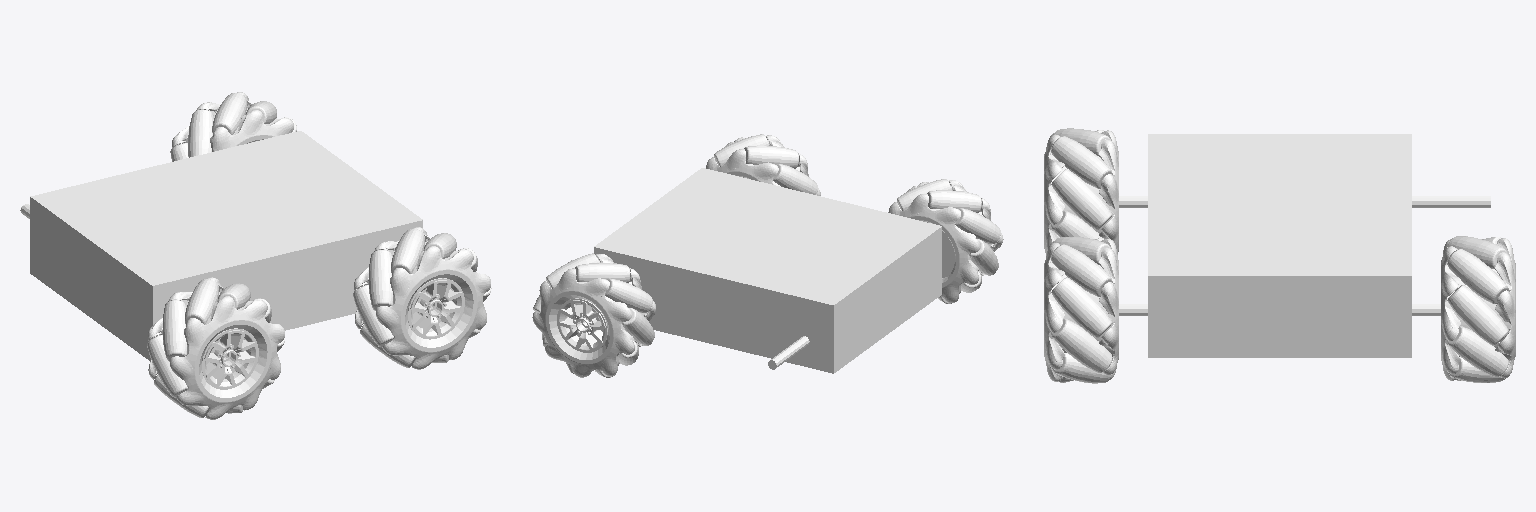
The robot description file, URDF, robot "XIAOCHE2":
<?xml version="1.0" encoding="utf-8"?>
<!-- This URDF was automatically created by SolidWorks to URDF Exporter! Originally created by [author] ([email redacted]) 
     Commit Version: 1.6.0-4-g7f85cfe  Build Version: 1.6.7995.38578
     For more information, please see http://wiki.ros.org/sw_urdf_exporter -->
<robot
  name="XIAOCHE2">
  <link
    name="base_link">
    <inertial>
      <origin
        xyz="2.77555756156289E-17 1.11022302462516E-16 -0.025029363393499"
        rpy="0 0 0" />
      <mass
        value="1.3313153226149" />
      <inertia
        ixx="0.0026238376441774"
        ixy="2.28392604790396E-19"
        ixz="7.31836466427715E-19"
        iyy="0.00404589965886898"
        iyz="4.81596900698379E-20"
        izz="0.00611723172124818" />
    </inertial>
    <visual>
      <origin
        xyz="0 0 0"
        rpy="0 0 0" />
      <geometry>
        <mesh
          filename="package://XIAOCHE2/meshes/base_link.STL" />
      </geometry>
      <material
        name="">
        <color
          rgba="1 1 1 1" />
      </material>
    </visual>
    <collision>
      <origin
        xyz="0 0 0"
        rpy="0 0 0" />
      <geometry>
        <mesh
          filename="package://XIAOCHE2/meshes/base_link.STL" />
      </geometry>
    </collision>
  </link>
  <link
    name="wheel_L1">
    <inertial>
      <origin
        xyz="-1.0588E-07 -0.0066281 2.194E-08"
        rpy="0 0 0" />
      <mass
        value="0.14742" />
      <inertia
        ixx="6.8277E-05"
        ixy="6.2462E-11"
        ixz="1.4769E-10"
        iyy="0.00010916"
        iyz="5.8683E-11"
        izz="6.8277E-05" />
    </inertial>
    <visual>
      <origin
        xyz="0 0 0"
        rpy="0 0 0" />
      <geometry>
        <mesh
          filename="package://XIAOCHE2/meshes/wheel_L1.STL" />
      </geometry>
      <material
        name="">
        <color
          rgba="1 1 1 1" />
      </material>
    </visual>
    <collision>
      <origin
        xyz="0 0 0"
        rpy="0 0 0" />
      <geometry>
        <mesh
          filename="package://XIAOCHE2/meshes/wheel_L1.STL" />
      </geometry>
    </collision>
  </link>
  <joint
    name="wheel_L1J"
    type="continuous">
    <origin
      xyz="0.07 0.11556 -0.031"
      rpy="0 0 0" />
    <parent
      link="base_link" />
    <child
      link="wheel_L1" />
    <axis
      xyz="0 1 0" />
  </joint>
  <link
    name="wheel_L2">
    <inertial>
      <origin
        xyz="-1.0614E-07 -0.0066281 2.2975E-08"
        rpy="0 0 0" />
      <mass
        value="0.14742" />
      <inertia
        ixx="6.8277E-05"
        ixy="6.4334E-11"
        ixz="1.4887E-10"
        iyy="0.00010916"
        iyz="5.5855E-11"
        izz="6.8277E-05" />
    </inertial>
    <visual>
      <origin
        xyz="0 0 0"
        rpy="0 0 0" />
      <geometry>
        <mesh
          filename="package://XIAOCHE2/meshes/wheel_L2.STL" />
      </geometry>
      <material
        name="">
        <color
          rgba="1 1 1 1" />
      </material>
    </visual>
    <collision>
      <origin
        xyz="0 0 0"
        rpy="0 0 0" />
      <geometry>
        <mesh
          filename="package://XIAOCHE2/meshes/wheel_L2.STL" />
      </geometry>
    </collision>
  </link>
  <joint
    name="wheel_L2J"
    type="continuous">
    <origin
      xyz="-0.07 0.11556 -0.031"
      rpy="0 0 0" />
    <parent
      link="base_link" />
    <child
      link="wheel_L2" />
    <axis
      xyz="0 1 0" />
  </joint>
  <link
    name="wheel_R1">
    <inertial>
      <origin
        xyz="-1.28159414330975E-08 0.00662808543279114 -6.2952978274744E-08"
        rpy="0 0 0" />
      <mass
        value="0.147415081884935" />
      <inertia
        ixx="6.827662650286E-05"
        ixy="-6.32090085922517E-11"
        ixz="1.46603007123518E-10"
        iyy="0.000109158838418431"
        iyz="-1.71182807994737E-11"
        izz="6.82765358575209E-05" />
    </inertial>
    <visual>
      <origin
        xyz="0 0 0"
        rpy="0 0 0" />
      <geometry>
        <mesh
          filename="package://XIAOCHE2/meshes/wheel_R1.STL" />
      </geometry>
      <material
        name="">
        <color
          rgba="1 1 1 1" />
      </material>
    </visual>
    <collision>
      <origin
        xyz="0 0 0"
        rpy="0 0 0" />
      <geometry>
        <mesh
          filename="package://XIAOCHE2/meshes/wheel_R1.STL" />
      </geometry>
    </collision>
  </link>
  <joint
    name="wheel_R1J"
    type="continuous">
    <origin
      xyz="0.07 -0.11556 -0.031"
      rpy="0 0 0" />
    <parent
      link="base_link" />
    <child
      link="wheel_R1" />
    <axis
      xyz="0 -1 0" />
  </joint>
  <link
    name="wheel_R2">
    <inertial>
      <origin
        xyz="-1.34423054909405E-08 0.00662808630362 -6.12543565869927E-08"
        rpy="0 0 0" />
      <mass
        value="0.147415107639338" />
      <inertia
        ixx="6.82766415189075E-05"
        ixy="-6.76853638150117E-11"
        ixz="1.44585220950724E-10"
        iyy="0.000109158853195658"
        iyz="-1.46615940712995E-11"
        izz="6.82765449651514E-05" />
    </inertial>
    <visual>
      <origin
        xyz="0 0 0"
        rpy="0 0 0" />
      <geometry>
        <mesh
          filename="package://XIAOCHE2/meshes/wheel_R2.STL" />
      </geometry>
      <material
        name="">
        <color
          rgba="1 1 1 1" />
      </material>
    </visual>
    <collision>
      <origin
        xyz="0 0 0"
        rpy="0 0 0" />
      <geometry>
        <mesh
          filename="package://XIAOCHE2/meshes/wheel_R2.STL" />
      </geometry>
    </collision>
  </link>
  <joint
    name="wheel_R12J"
    type="continuous">
    <origin
      xyz="-0.07 -0.11556 -0.031"
      rpy="0 0 0" />
    <parent
      link="base_link" />
    <child
      link="wheel_R2" />
    <axis
      xyz="0 -1 0" />
  </joint>
</robot>

--- Render facts (derived) ---
The picture shows the robot from 3 angles, left to right: view 1: azimuth 30°, elevation 25°; view 2: azimuth 150°, elevation 25°; view 3: azimuth 270°, elevation 25°; orthographic projection.
Model XIAOCHE2 with 5 links and 4 joints (4 continuous), rooted at base_link, posed all joints at 0.
Visible links, largest first — view 1: base_link, wheel_R1, wheel_R2, wheel_L1; view 2: base_link, wheel_L1, wheel_R2, wheel_R1; view 3: base_link, wheel_L1, wheel_R1, wheel_R2.
Link boxes in pixels (x1,y1,x2,y2): base_link: [20, 131, 422, 360]; wheel_R1: [353, 227, 491, 369]; wheel_R2: [147, 277, 284, 419]; wheel_L1: [170, 92, 296, 161]; base_link: [594, 168, 941, 373]; wheel_L1: [532, 253, 655, 377]; wheel_R2: [888, 179, 1003, 303]; wheel_R1: [706, 134, 820, 195]; base_link: [1119, 134, 1490, 357]; wheel_L1: [1441, 236, 1515, 382]; wheel_R1: [1044, 237, 1118, 383]; wheel_R2: [1044, 128, 1118, 255].
Bounding box of the posed robot: 0.2205 × 0.2578 × 0.0806 m (x, y, z).
Meshes: 5 distinct files referenced, 4 mesh visuals loaded (4 binary STL); not drawn: 1 (reference not matched to a file when rendering).